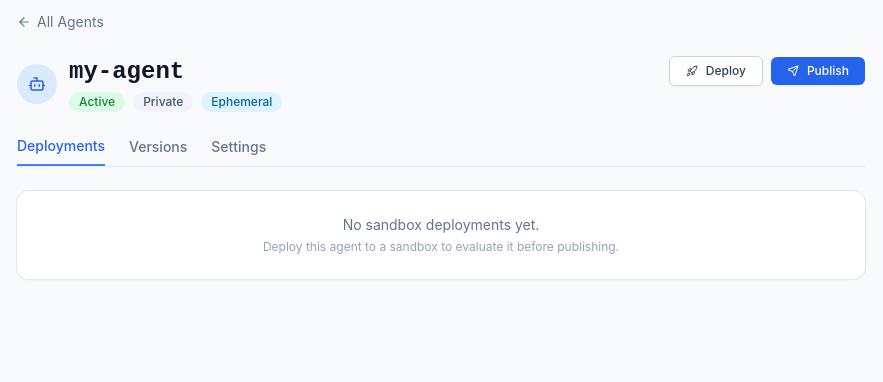
Test: AgentDetailPage — Versions tab › shows eval passed/not-passed indicators
Click the button "versions". click: (158, 151)
box: [129, 136, 187, 166]
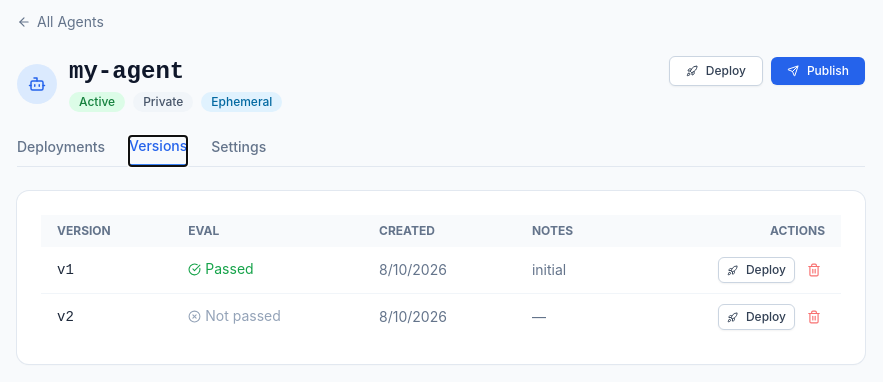
Now the text "Passed" is shown, box [188, 259, 254, 279]
Now the text "Not passed" is shown, box [188, 306, 281, 326]
